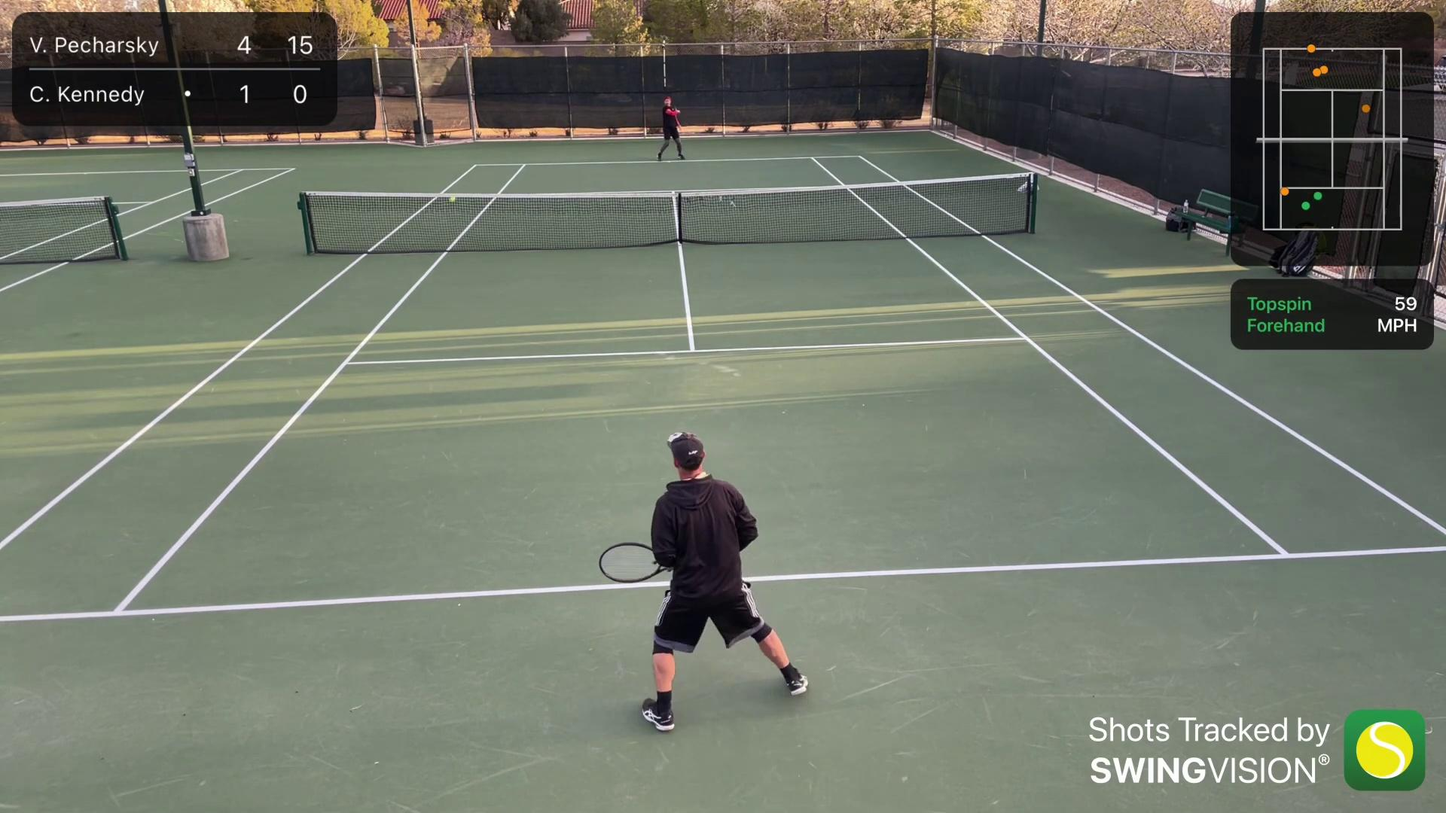ball: (447, 196, 457, 203)
